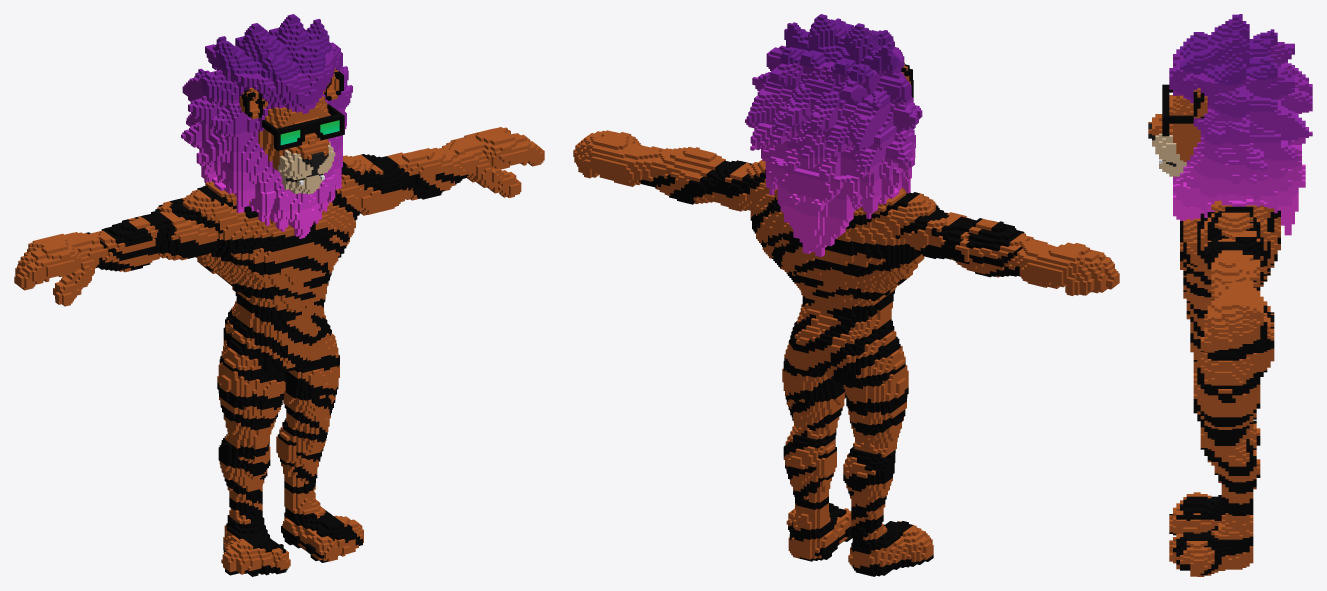
File: 899-Br9kDhZN.fbx
3 views of the same model, side by side, from view 1: azimuth 30°, elevation 25°; view 2: azimuth 150°, elevation 25°; view 3: azimuth 270°, elevation 25° (orthographic). The views are drawn at different scales.
Parts seen in each view (by area): view 1: standard; view 2: standard; view 3: standard.
Boxes of the visible parts, box(x1,y1,x2,y2) form: standard: box(14, 14, 544, 576); standard: box(573, 14, 1119, 576); standard: box(1148, 14, 1312, 576).
Size of the model in its own units: 17.2 by 16.5 by 4.7.
Materials: 4 (4 with a texture image).
